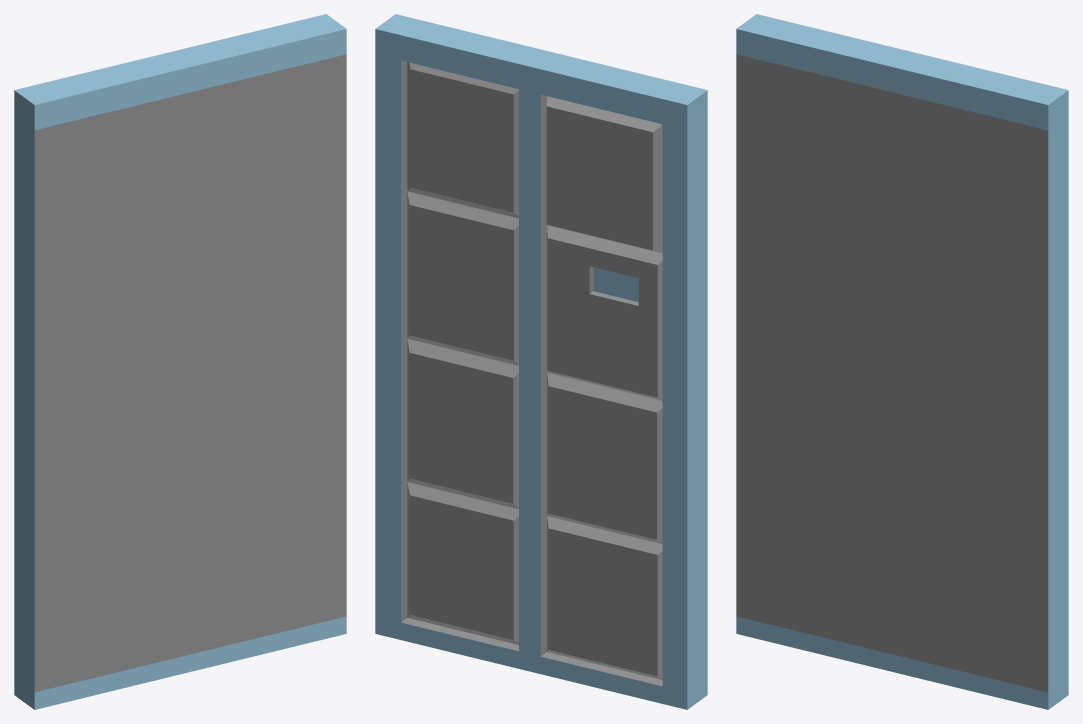
File: door.fbx
The picture shows the model from 3 angles, left to right: view 1: azimuth 30°, elevation 25°; view 2: azimuth 150°, elevation 25°; view 3: azimuth 330°, elevation 25°; orthographic projection.
Visible parts, largest first — view 1: pCube35; view 2: pCube35; view 3: pCube35.
Boxes of the visible parts, x1,y1,x2,y2 form: pCube35: [14, 14, 346, 709]; pCube35: [375, 14, 707, 709]; pCube35: [736, 14, 1068, 709].
Bounding box in the file's own units: 2.64 × 4.89 × 0.3251.
